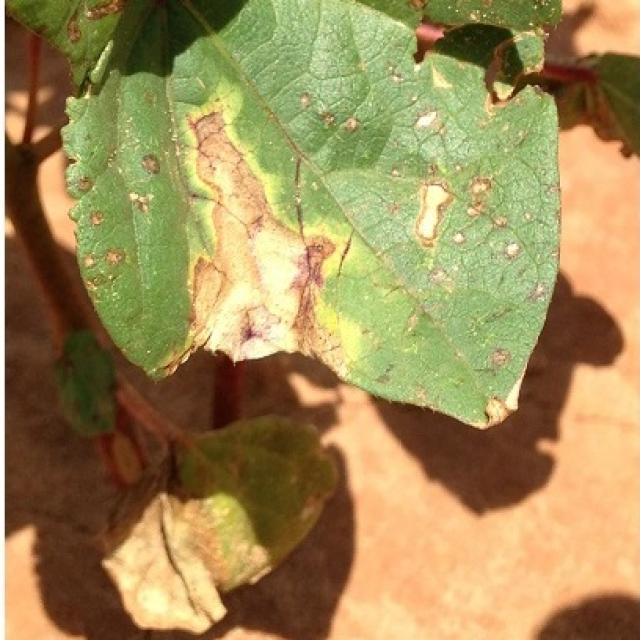Fusarium Wilt: (18, 0, 583, 459)
